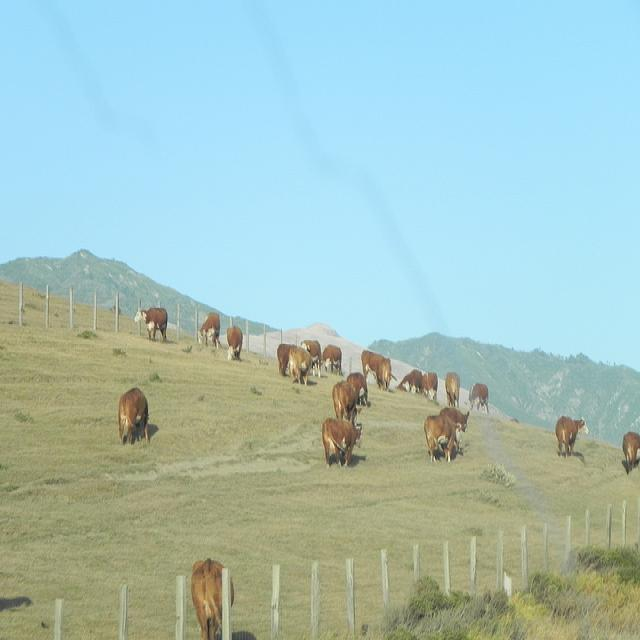cow: (130, 300, 589, 461), (188, 555, 235, 639), (422, 413, 461, 460), (321, 416, 358, 465), (359, 348, 396, 389), (116, 385, 146, 435), (331, 379, 357, 425), (137, 311, 166, 343), (287, 346, 309, 386), (197, 311, 219, 347), (621, 429, 639, 472), (345, 371, 366, 404), (275, 343, 296, 375), (443, 370, 459, 406)
